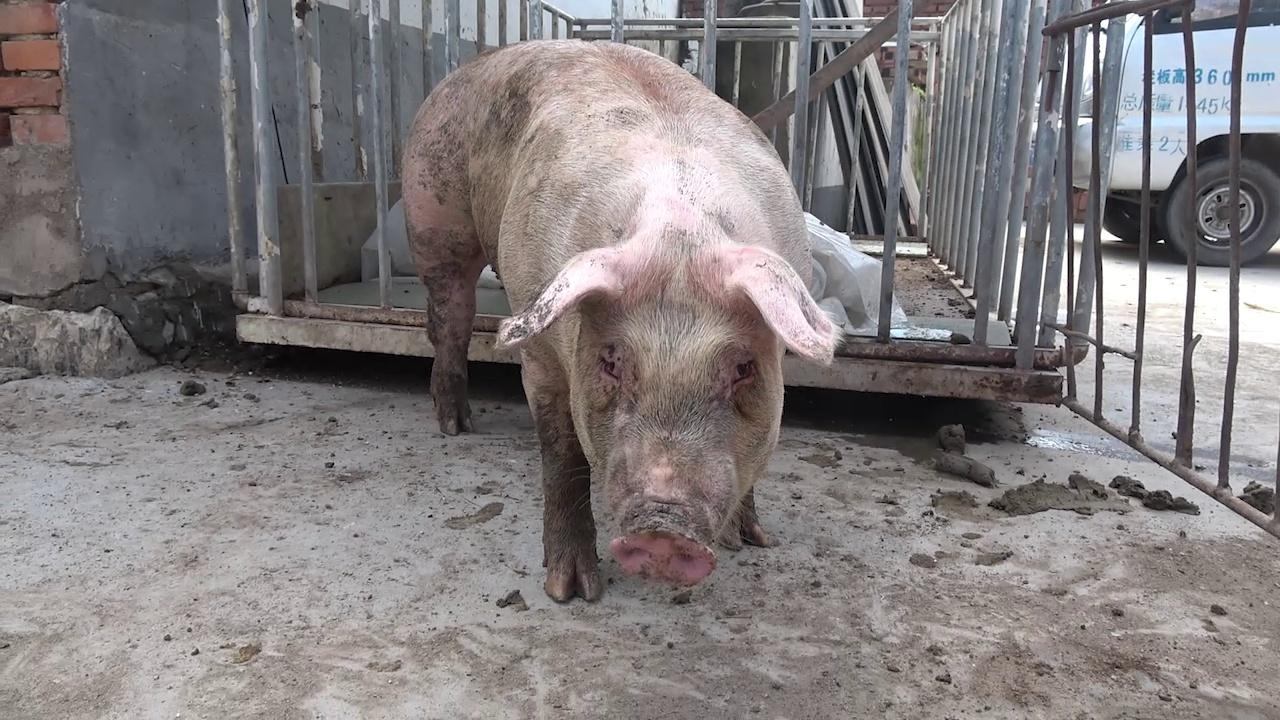Face: (489, 239, 851, 599)
